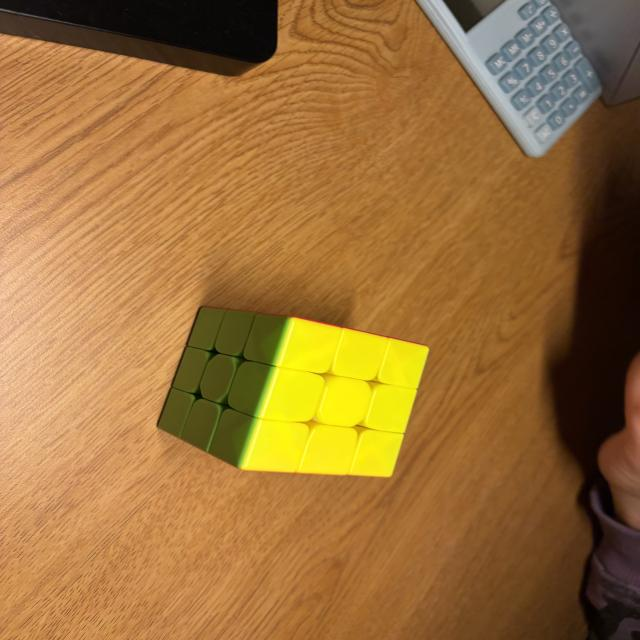Rubiks Cube: (158, 305, 430, 478)
